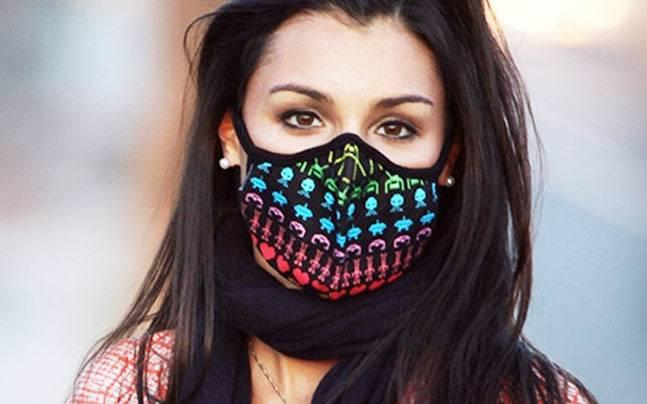Wearing Mask: (172, 3, 558, 404)
